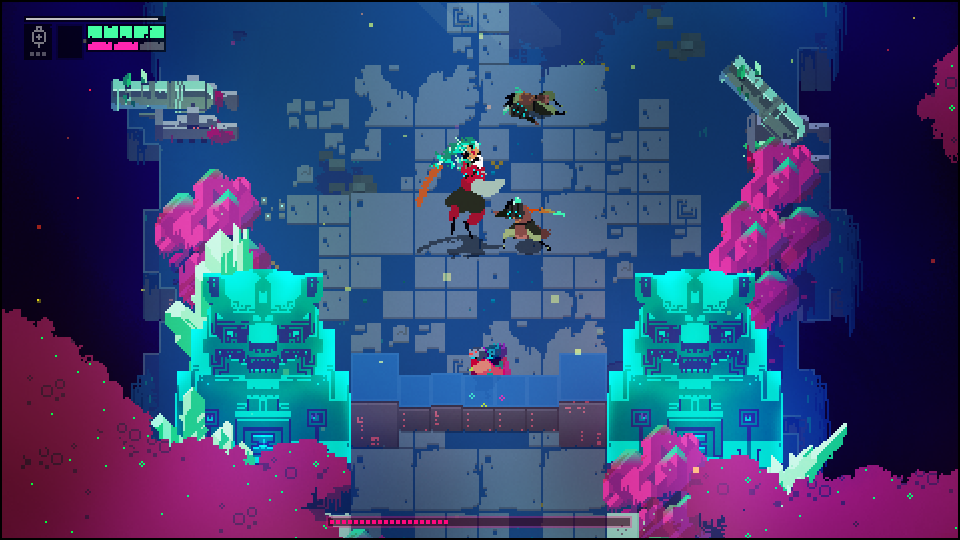hanged_man: (406, 136, 506, 244)
player: (465, 343, 497, 377)
